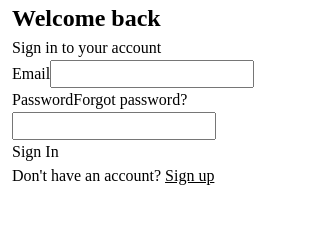
Test case: loginForm › shows error message when sign-in fails
Type "test@unosquare.com" into the field labelled "Email". click: x=152, y=74
box: left=50, top=60, right=254, bottom=88
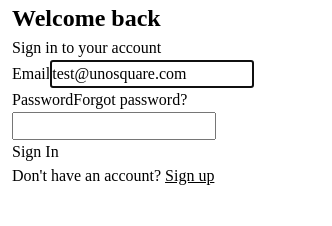
Type "wrongpassword" into the password field labelled "Password". click: x=114, y=126
box: left=12, top=112, right=216, bottom=140
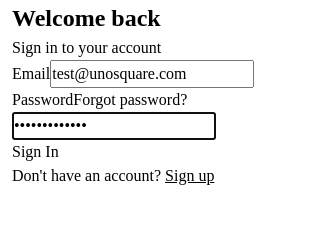
Click the button "Sign In". click: x=35, y=152
box: left=12, top=140, right=59, bottom=164
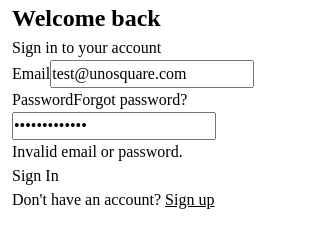
Expected: the message reads "Invalid email or password.", left=12, top=143, right=183, bottom=160
